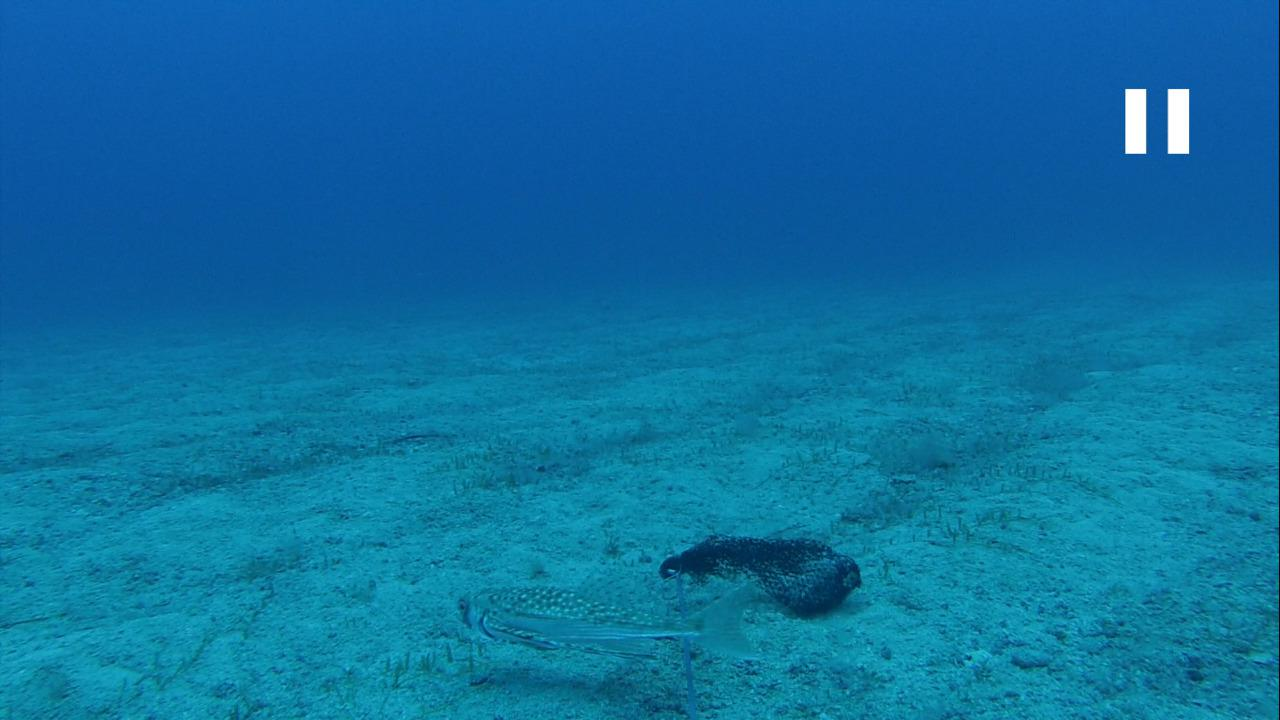dactylopterus: (440, 573, 757, 682)
